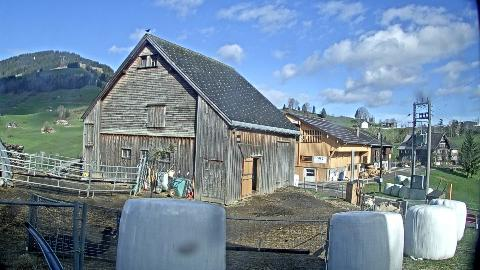sheep: (38, 227, 118, 259), (364, 198, 400, 214)
